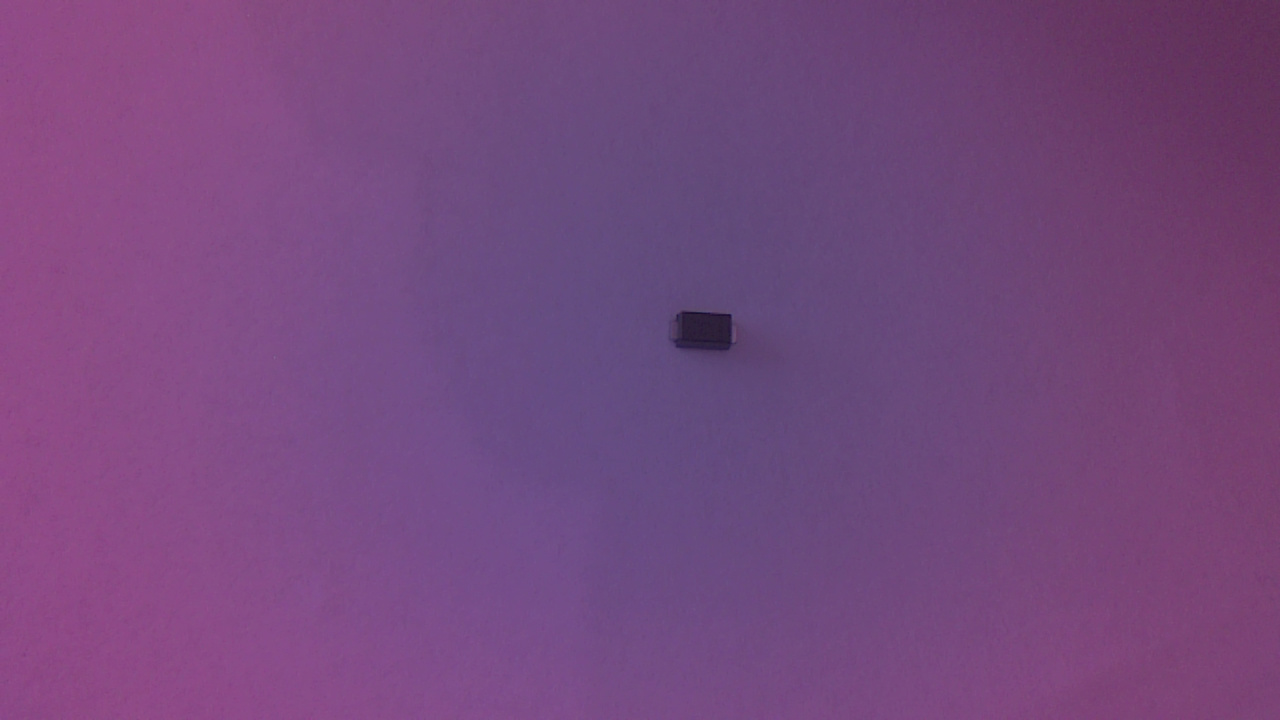Diode: (657, 310, 746, 363)
